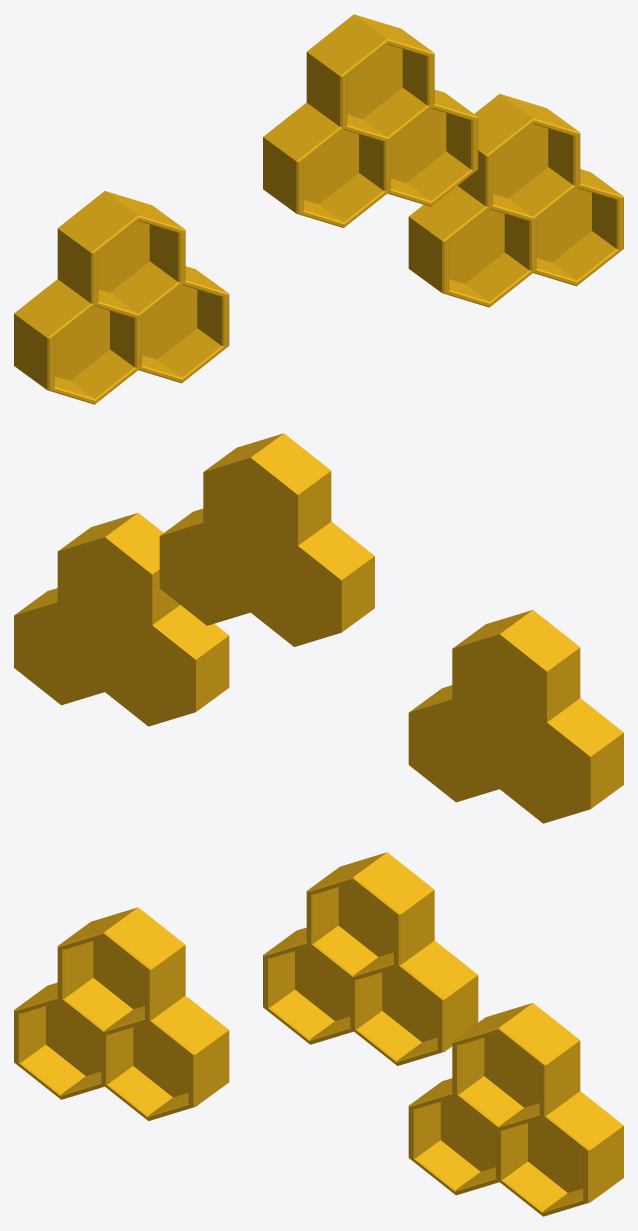
The model's file is honeyLevel1.fbx.
3 renders of one model, top to bottom at view 1: azimuth 30°, elevation 25°; view 2: azimuth 150°, elevation 25°; view 3: azimuth 330°, elevation 25°, orthographic.
Visible parts, largest first — view 1: Cube.078, Cube.070, Cube.005; view 2: Cube.078, Cube.070, Cube.005; view 3: Cube.005, Cube.070, Cube.078.
Boxes of the visible parts, x1,y1,x2,y2 form: Cube.078: (263,14,478,227); Cube.070: (14,191,229,404); Cube.005: (408,94,623,307); Cube.078: (159,433,374,646); Cube.070: (408,610,623,823); Cube.005: (14,513,229,726); Cube.005: (408,1003,623,1216); Cube.070: (14,907,229,1120); Cube.078: (263,852,478,1065).
Size of the model in its own units: 1629 by 796 by 167.
